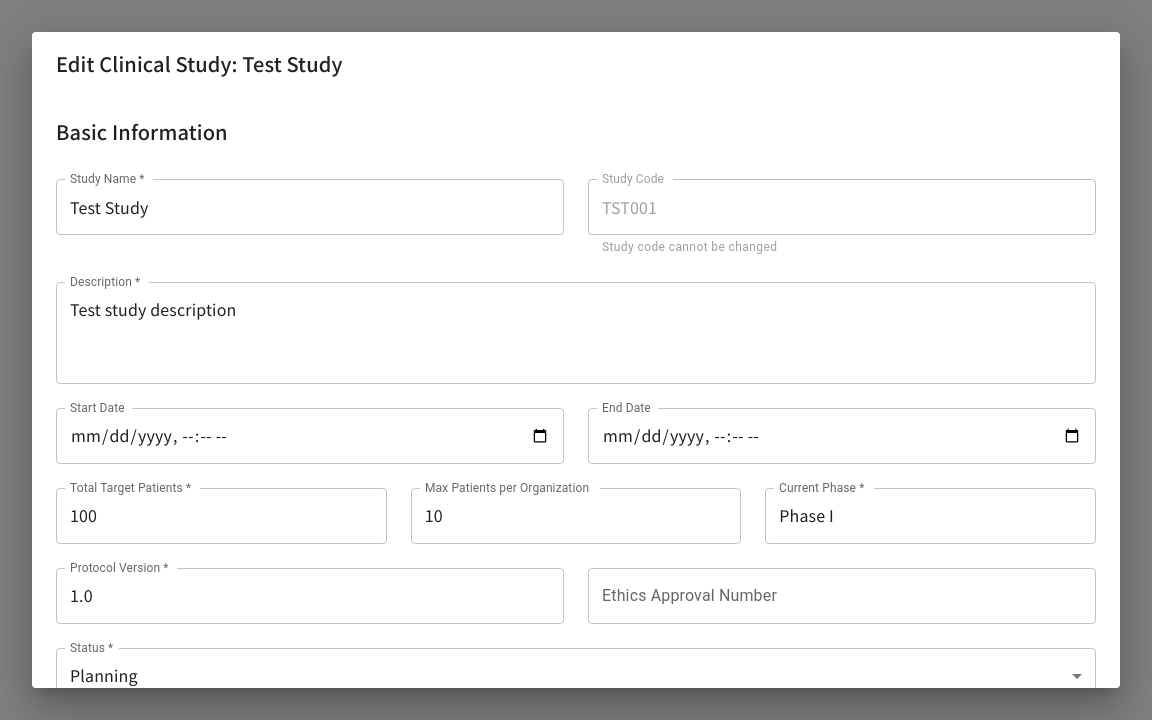
Test: ClinicalStudyEditForm › shows validation errors for required fields
Note: Clear study name
Clear the field showing "Test Study" at (310, 207), box [56, 179, 564, 235]
(page scrolled)
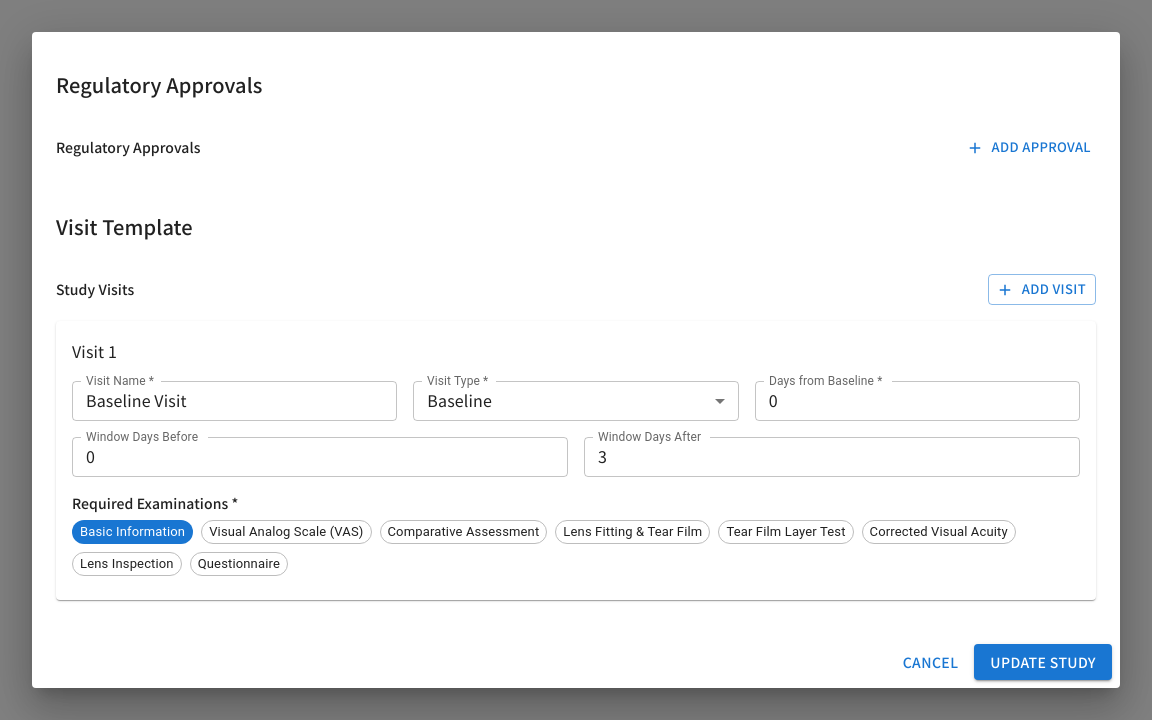
Click the button "Update Study" at (1043, 662), box [974, 644, 1112, 680]
(page scrolled)
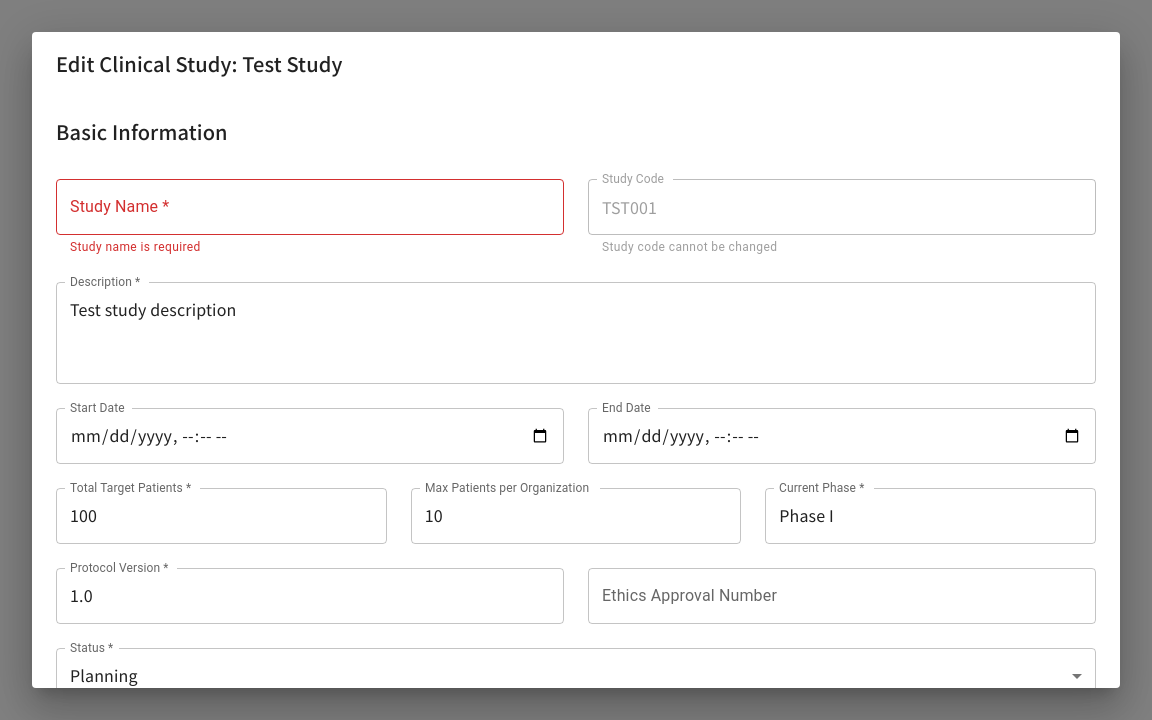
Expected: the text "Study name is required" is shown, [70, 240, 201, 254]
